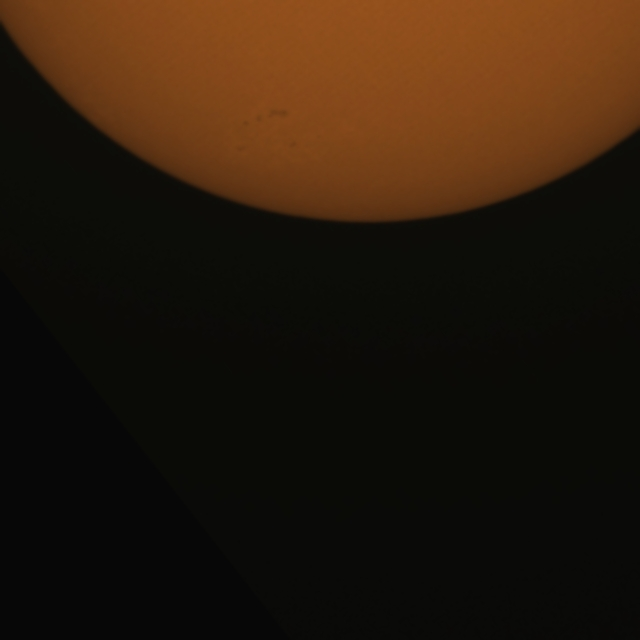sunspot: (245, 107, 291, 126), (287, 138, 299, 151)
